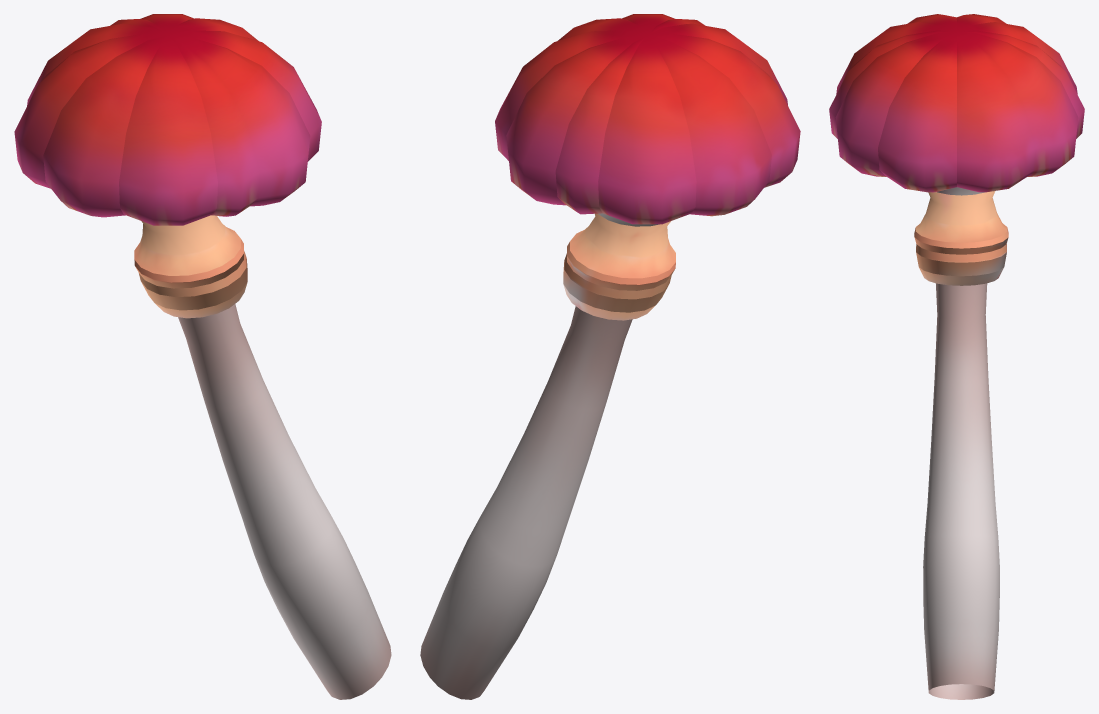
Rendered from Long_mushroom_6.fbx.
3 views of the same model, side by side, from view 1: azimuth 30°, elevation 25°; view 2: azimuth 150°, elevation 25°; view 3: azimuth 270°, elevation 25° (orthographic). The views are drawn at different scales.
Visible parts, largest first — view 1: Object011, Object025; view 2: Object011, Object025; view 3: Object011, Object025.
Boxes of the visible parts, x1,y1,x2,y2 form: Object011: [14, 14, 321, 225]; Object025: [134, 215, 391, 699]; Object011: [495, 14, 800, 224]; Object025: [420, 213, 675, 699]; Object011: [829, 14, 1084, 192]; Object025: [914, 187, 1008, 699].
Size of the model in its own units: 1.88 by 3.62 by 1.4.
